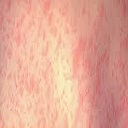Measles: (6, 15, 120, 116)
